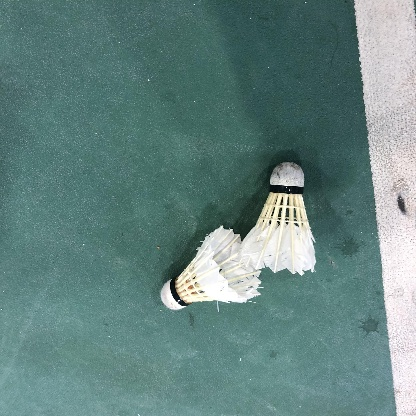ball_single: (161, 225, 261, 310), (241, 162, 316, 275)
